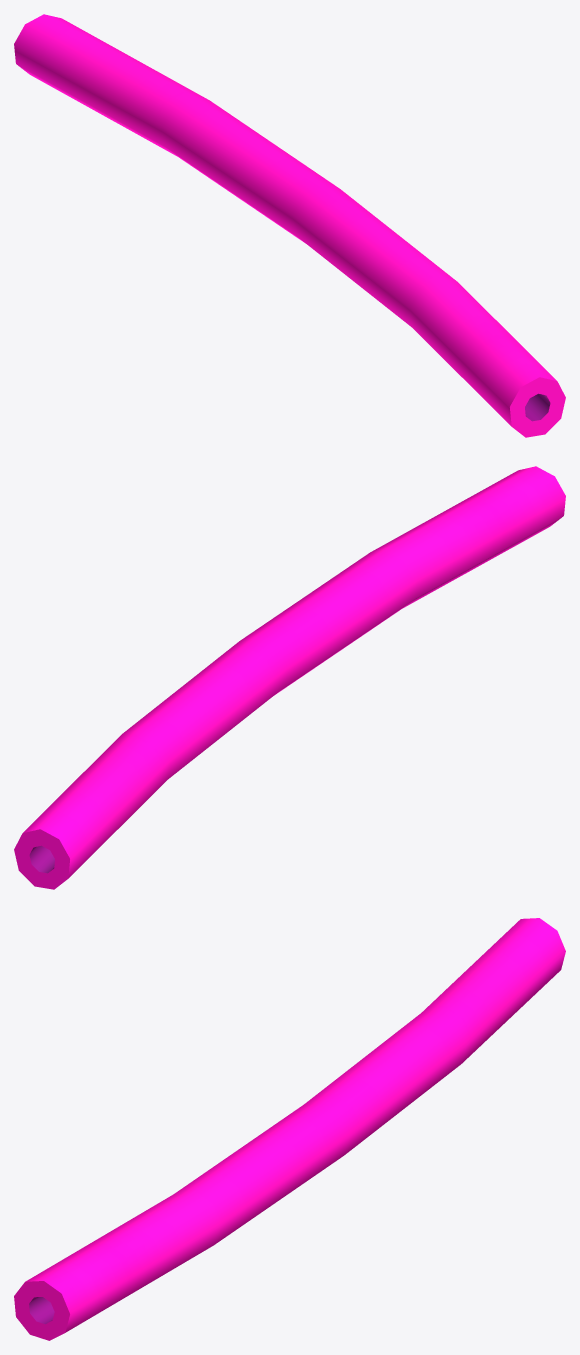
The model's file is PoolNoodlePink.glb.
3 renders of one model, top to bottom at view 1: azimuth 30°, elevation 25°; view 2: azimuth 150°, elevation 25°; view 3: azimuth 330°, elevation 25°, orthographic.
Visible parts, largest first — view 1: PoolNoodlePink; view 2: PoolNoodlePink; view 3: PoolNoodlePink.
Part boxes in pixels (x1,y1,x2,y2): PoolNoodlePink: [14, 14, 565, 437]; PoolNoodlePink: [14, 466, 565, 889]; PoolNoodlePink: [14, 918, 565, 1340].
Bounding box in the file's own units: 0.2596 × 0.1766 × 2.56.
Materials: 1 (1 with a texture image).
